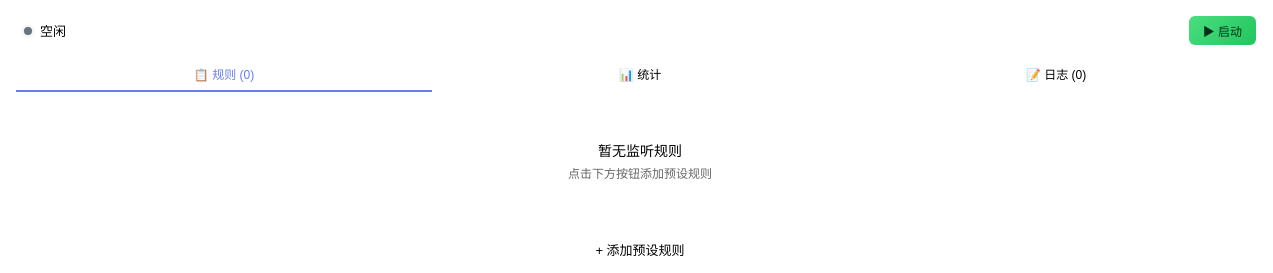
it: WatchPanel › Tab 切换 › 点击规则 Tab 应该切换回规则面板
The width and height of the screenshot is (1273, 273).
Click the button "📊 统计" at x=640, y=74, box [432,57,848,92]
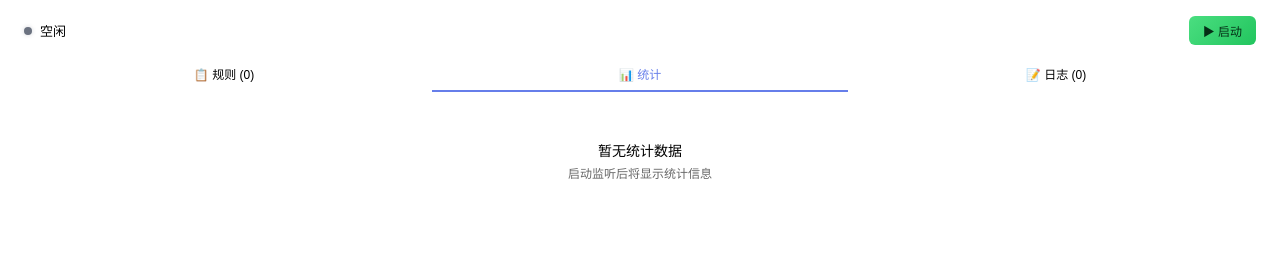
Click the button "📋 规则 (0)" at x=224, y=74, box [16,57,432,92]
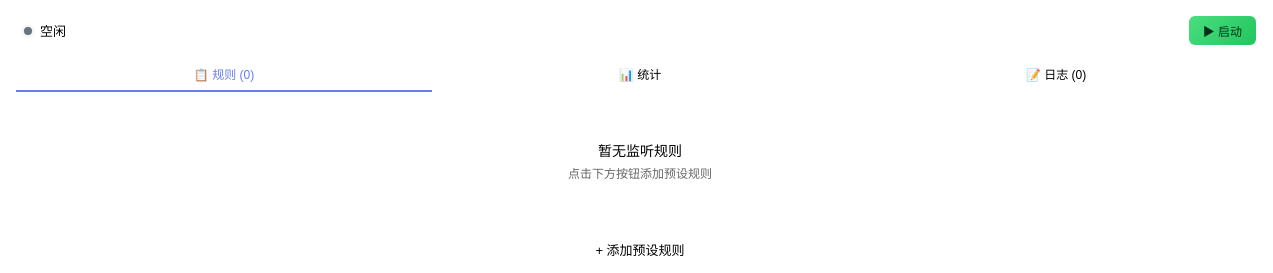
Expected: the text "暂无监听规则" is shown, [598,144,682,159]
